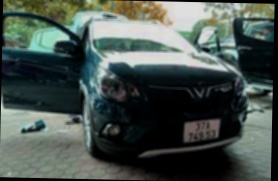Bien-so: (184, 114, 224, 144)
